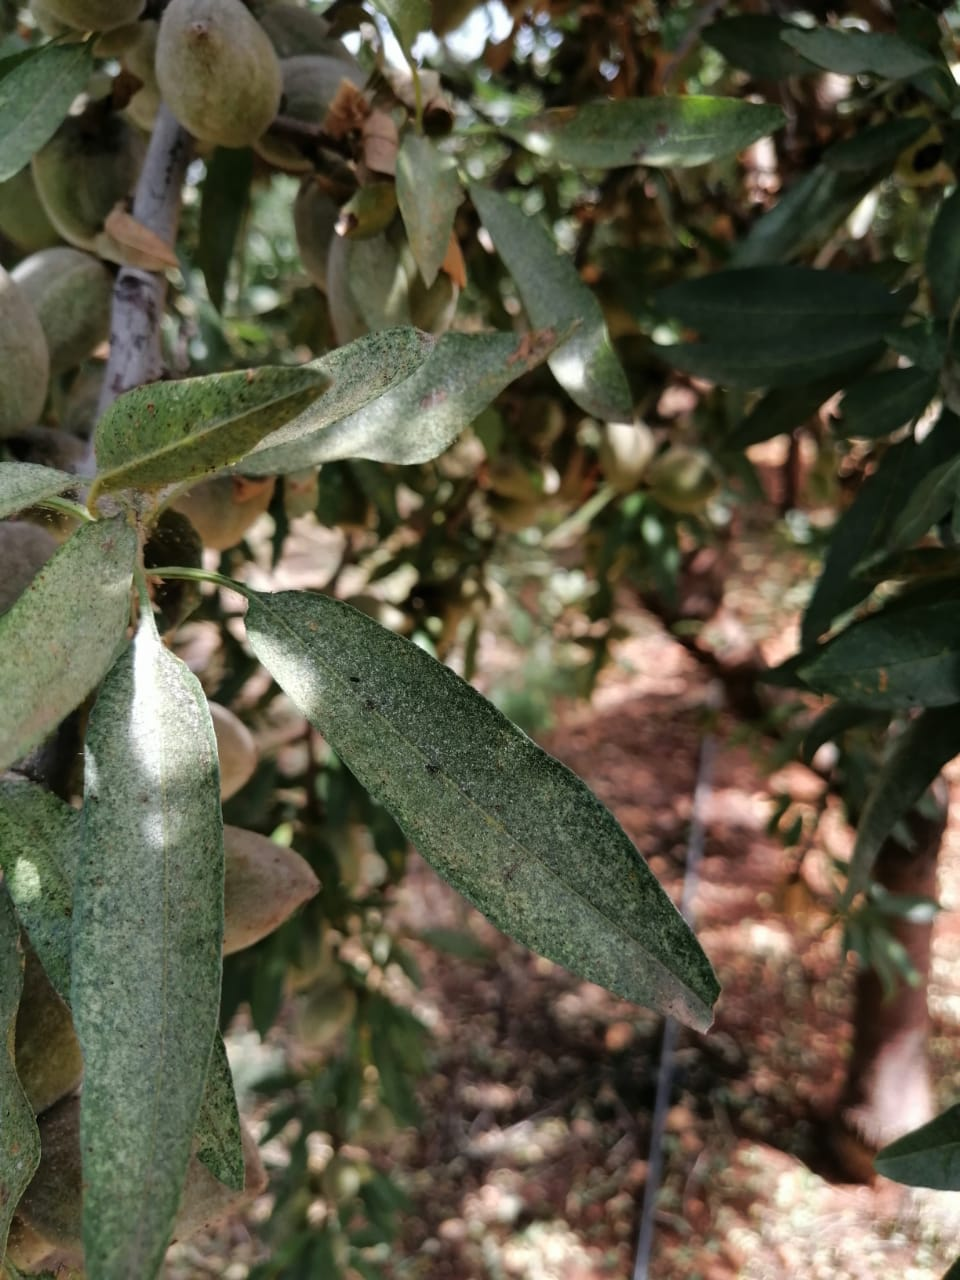faux tigre: (646, 541, 952, 838), (280, 792, 507, 1089), (271, 679, 448, 942), (538, 549, 655, 933), (126, 829, 341, 999)
